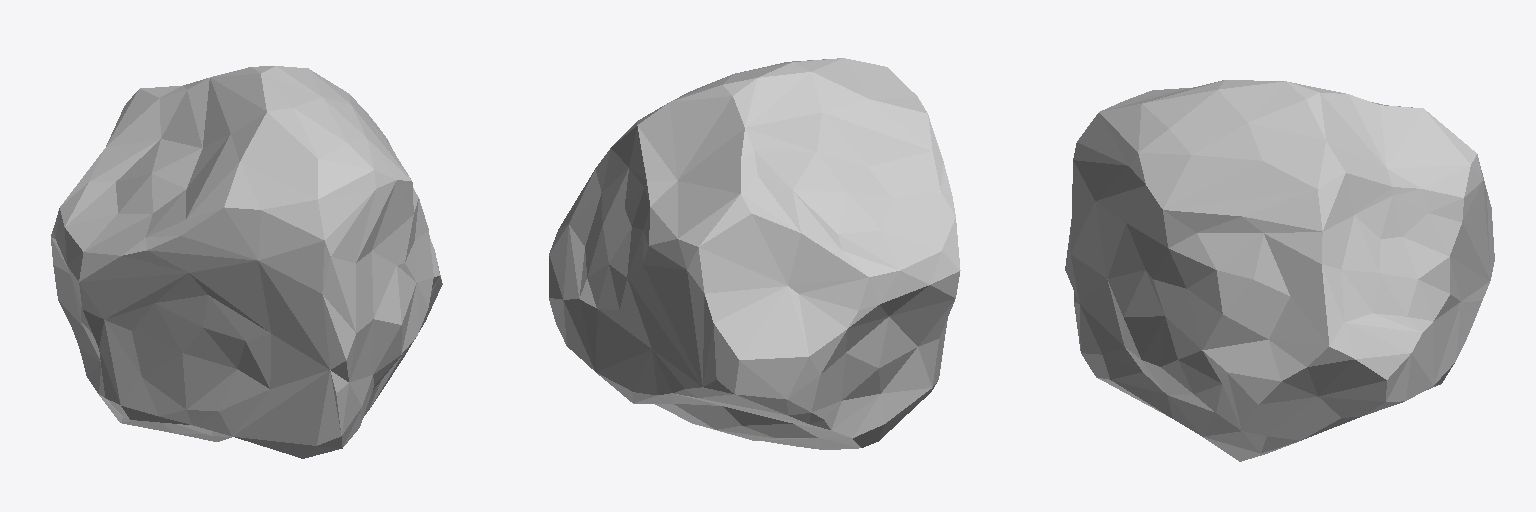
File: rock10.obj
3 views of the same model, side by side, from view 1: azimuth 30°, elevation 25°; view 2: azimuth 150°, elevation 25°; view 3: azimuth 270°, elevation 25° (orthographic).
Visible parts, largest first — view 1: Rock1; view 2: Rock1; view 3: Rock1.
Part boxes in pixels (x1,y1,x2,y2): Rock1: (51, 66, 442, 458); Rock1: (549, 58, 960, 449); Rock1: (1065, 80, 1494, 461).
Bounding box in the file's own units: 5.04 × 4.65 × 5.08.